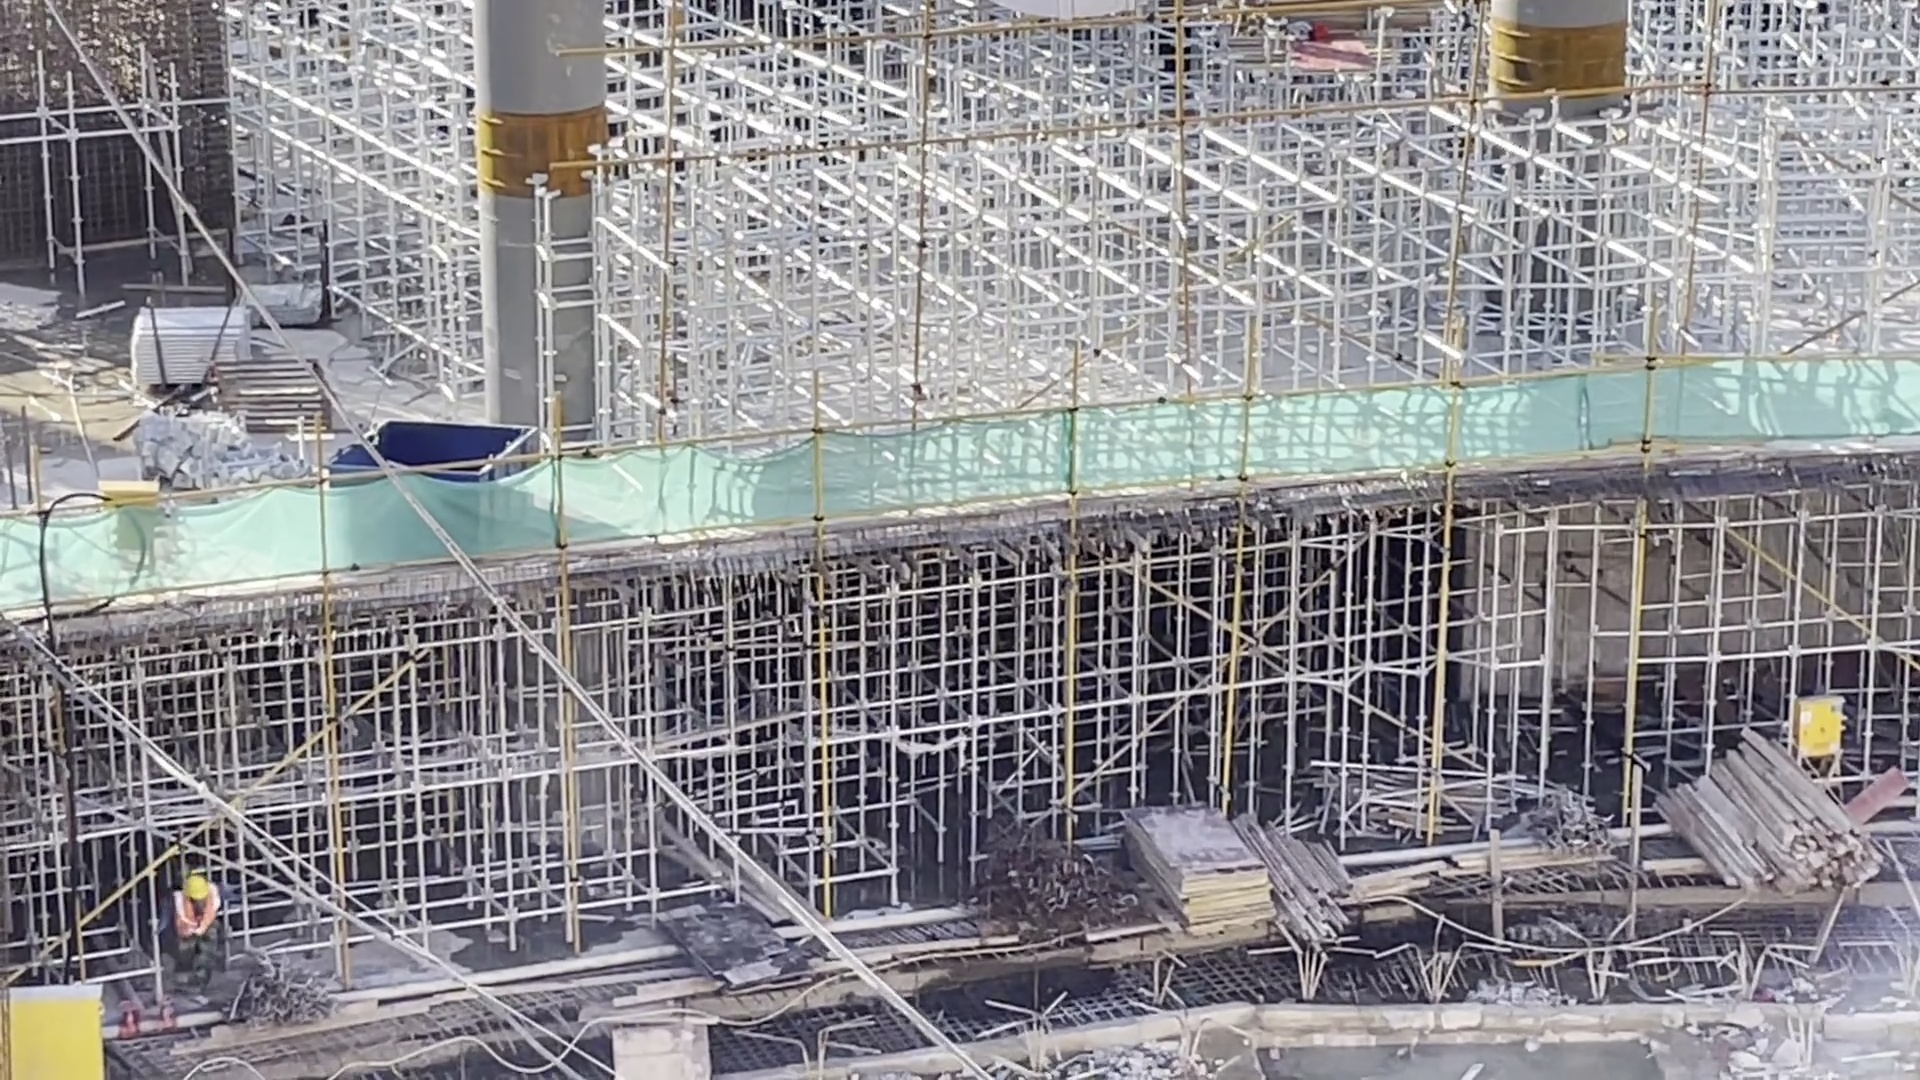board: (1117, 797, 1282, 942)
ebox: (1791, 687, 1852, 763), (97, 476, 160, 501)
helmet: (182, 875, 208, 901)
hopper: (370, 417, 543, 457)
person: (162, 871, 223, 993)
scaffold: (128, 301, 250, 364)
vest: (176, 893, 217, 940)
wood: (1648, 724, 1889, 895), (1274, 832, 1358, 946)
